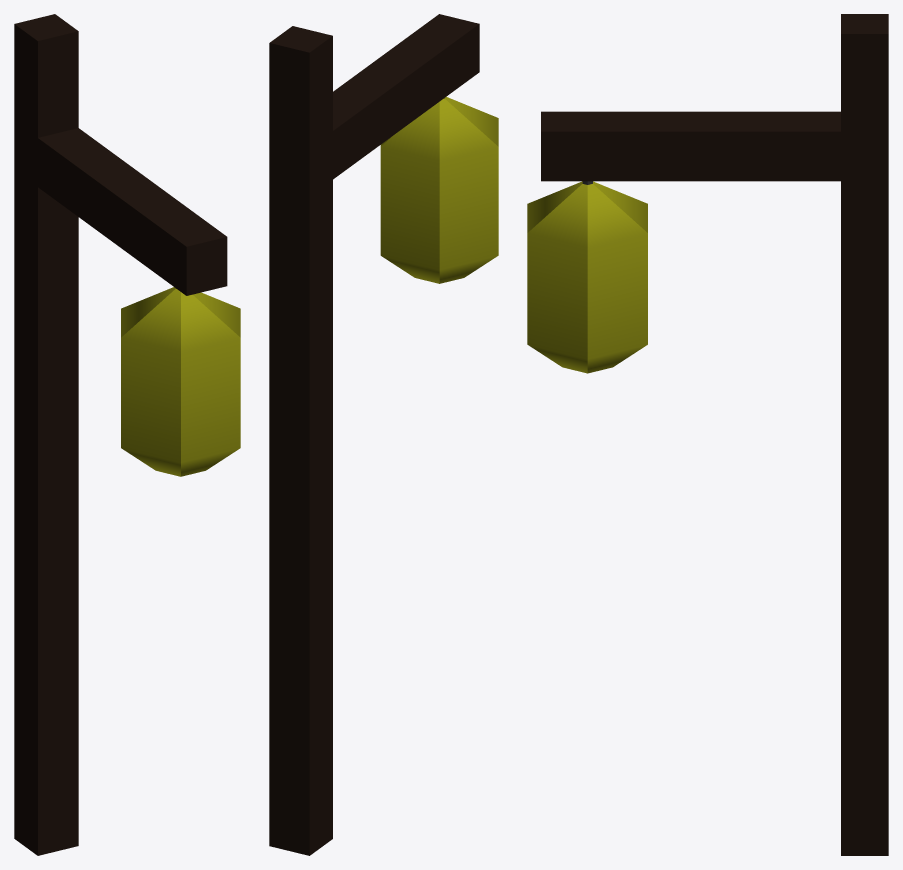
Rendered from Lantern.fbx.
The picture shows the model from 3 angles, left to right: view 1: azimuth 30°, elevation 25°; view 2: azimuth 150°, elevation 25°; view 3: azimuth 270°, elevation 25°; orthographic projection. The views are drawn at different scales.
Parts seen in each view (by area): view 1: Lantern_3; view 2: Lantern_3; view 3: Lantern_3.
Part boxes in pixels (bbox=[...]): Lantern_3: bbox=[14, 14, 240, 855]; Lantern_3: bbox=[269, 14, 498, 855]; Lantern_3: bbox=[527, 14, 888, 855].
Bounding box in the file's own units: 0.8814 × 5.74 × 2.29.
